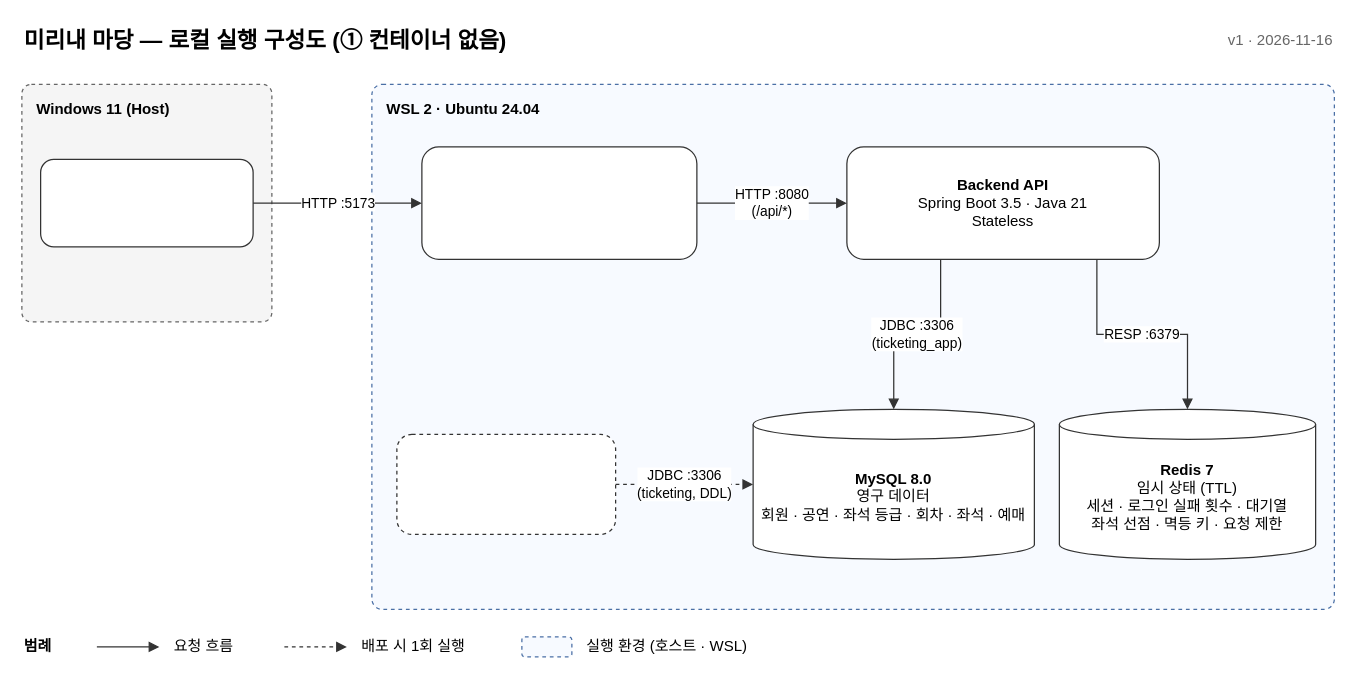
This 1356x680 diagram has some shape labels left out. The centre of each missing label's shape, as x and y in pixels:
"Browser http://localhost:5173" goes at (x=146, y=202).
"DB Migration Flyway · 배포 시 1회 실행 스키마 생성 + 시드 데이터" goes at (x=506, y=483).
"Frontend Vite Dev Server Node 24 · React 19" goes at (x=559, y=202).
